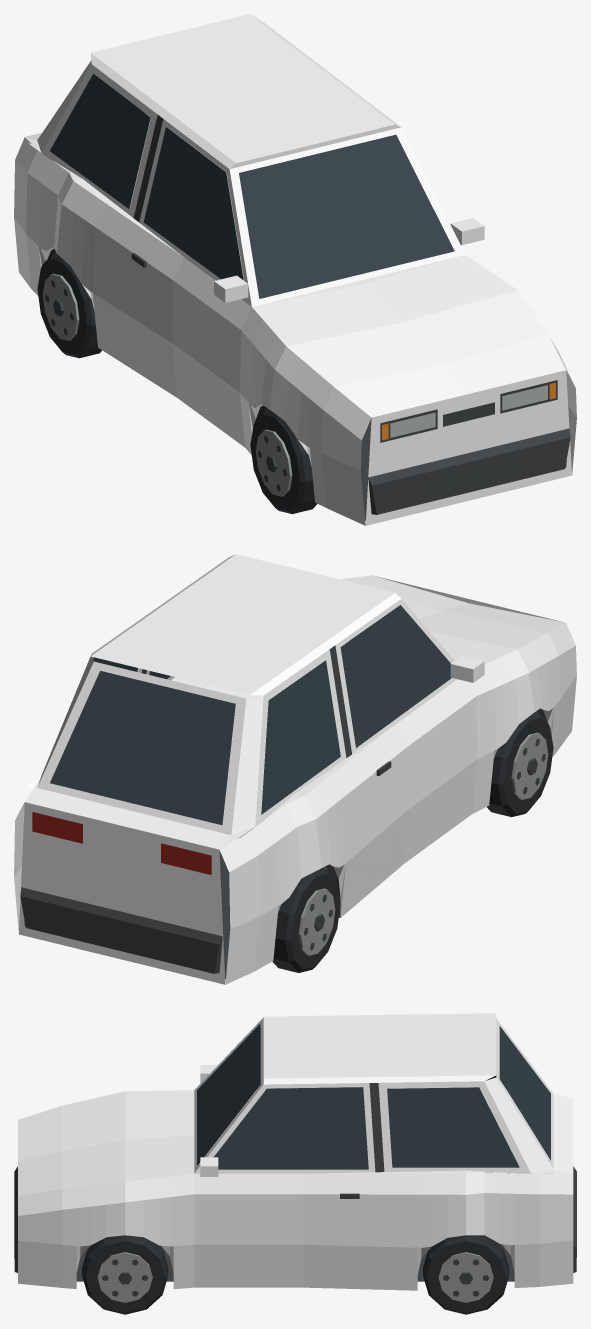
The model's file is lindauer_kauz.glb.
The picture shows the model from 3 angles, top to bottom: view 1: azimuth 30°, elevation 25°; view 2: azimuth 150°, elevation 25°; view 3: azimuth 270°, elevation 25°; orthographic projection. The views are drawn at different scales.
Parts seen in each view (by area): view 1: lindauer_kauz; view 2: lindauer_kauz; view 3: lindauer_kauz.
Part boxes in pixels (x1,y1,x2,y2): lindauer_kauz: (14,14,576,525); lindauer_kauz: (14,554,576,984); lindauer_kauz: (14,1013,576,1314).
Bounding box in the file's own units: 1.62 × 1.63 × 3.73.
Materials: 8 (1 with a texture image).
